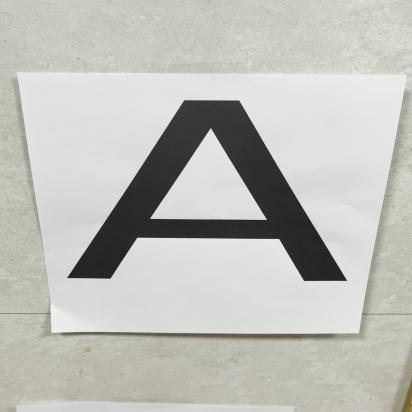seat: (36, 82, 365, 312)
